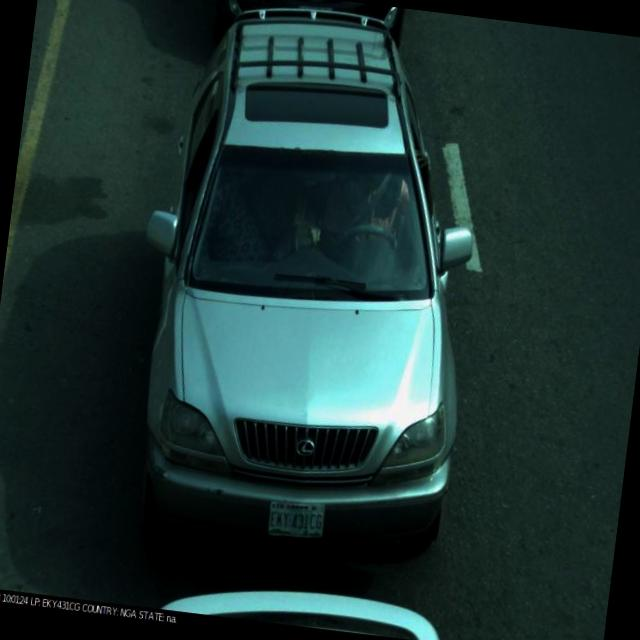person_with_seatbelt: (312, 157, 418, 280)
